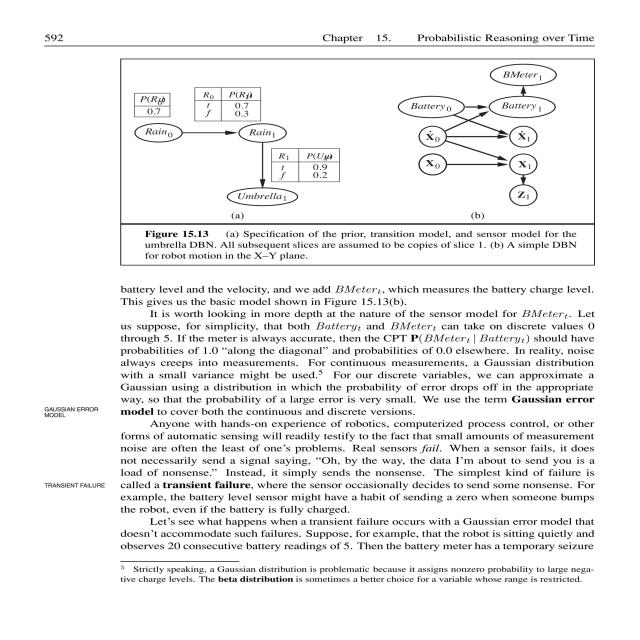diagram: (99, 50, 638, 266)
